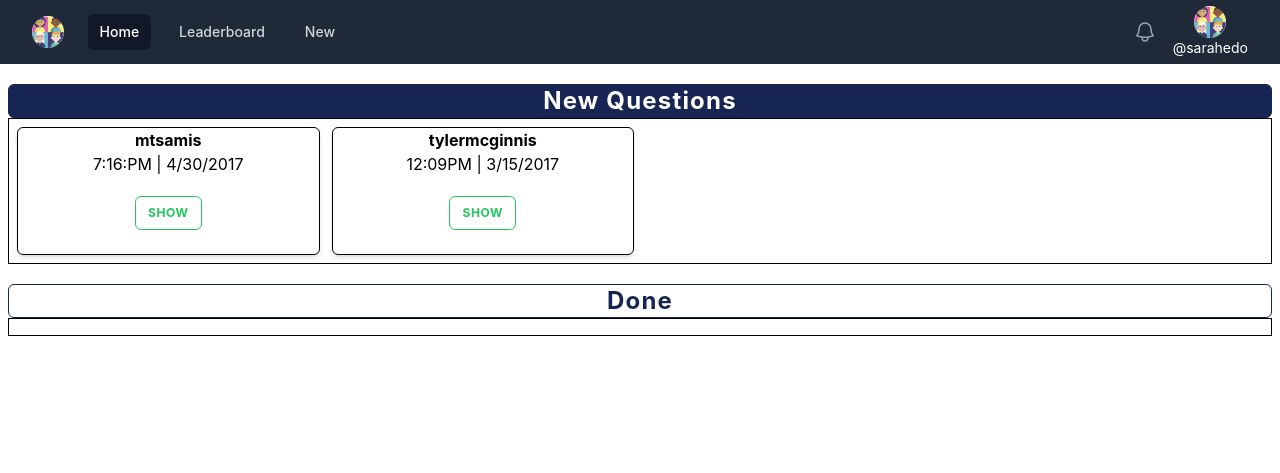
Test: App › will log out
Expected: the heading "select user" is not shown
Click the button named "open user menu" at (1210, 32), box [1173, 6, 1248, 58]
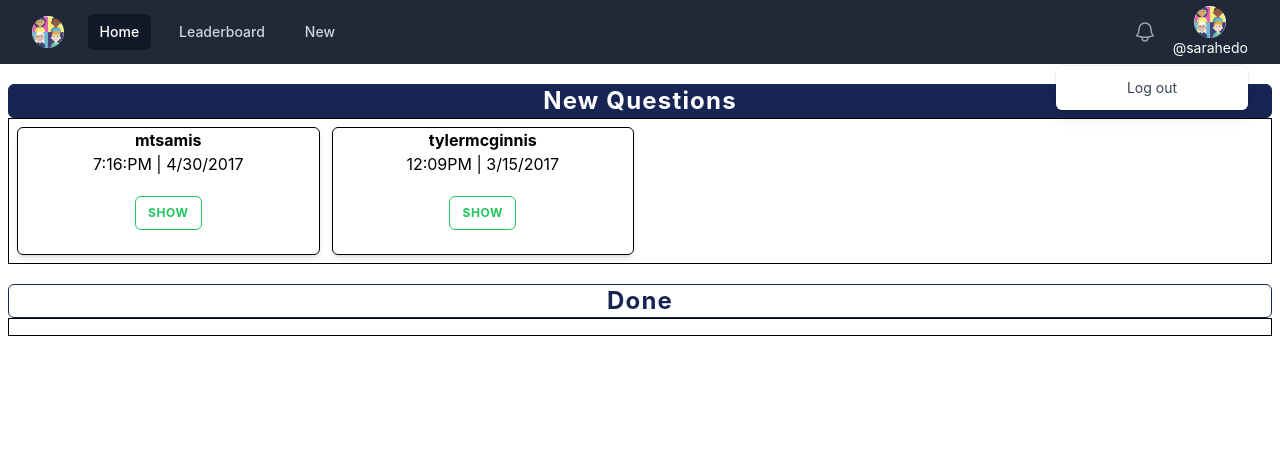
Click the menu item "Log out" at (1152, 88), box [1127, 79, 1177, 96]
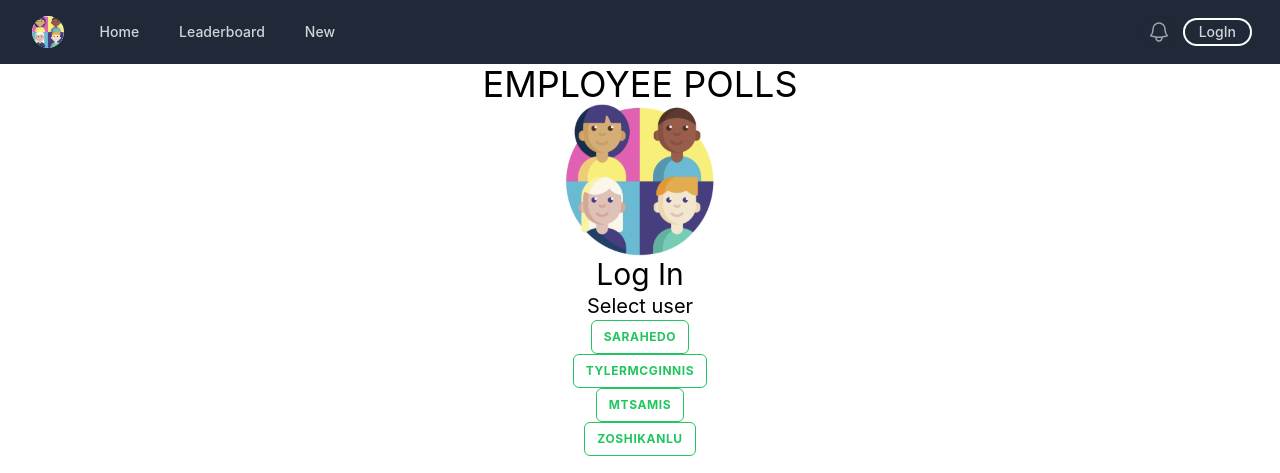
Result: the heading "Select user" is shown at [587, 294, 693, 318]
